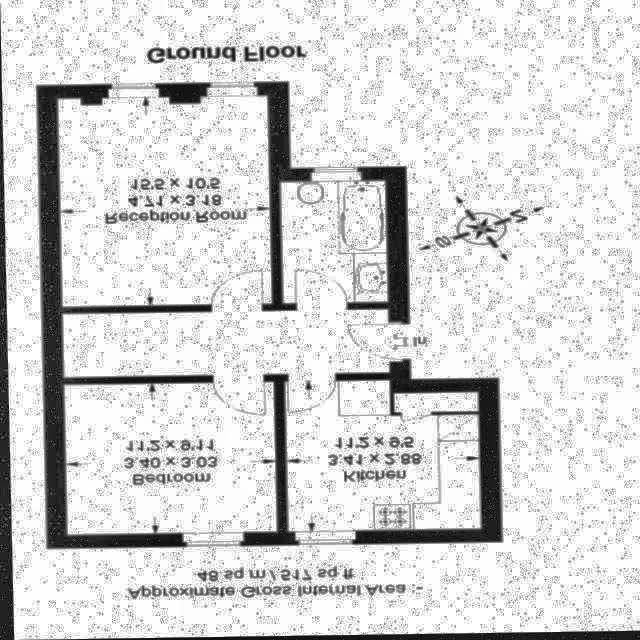room: (59, 95, 270, 306), (61, 382, 275, 535), (284, 381, 478, 531), (60, 309, 389, 378), (280, 181, 386, 306)
